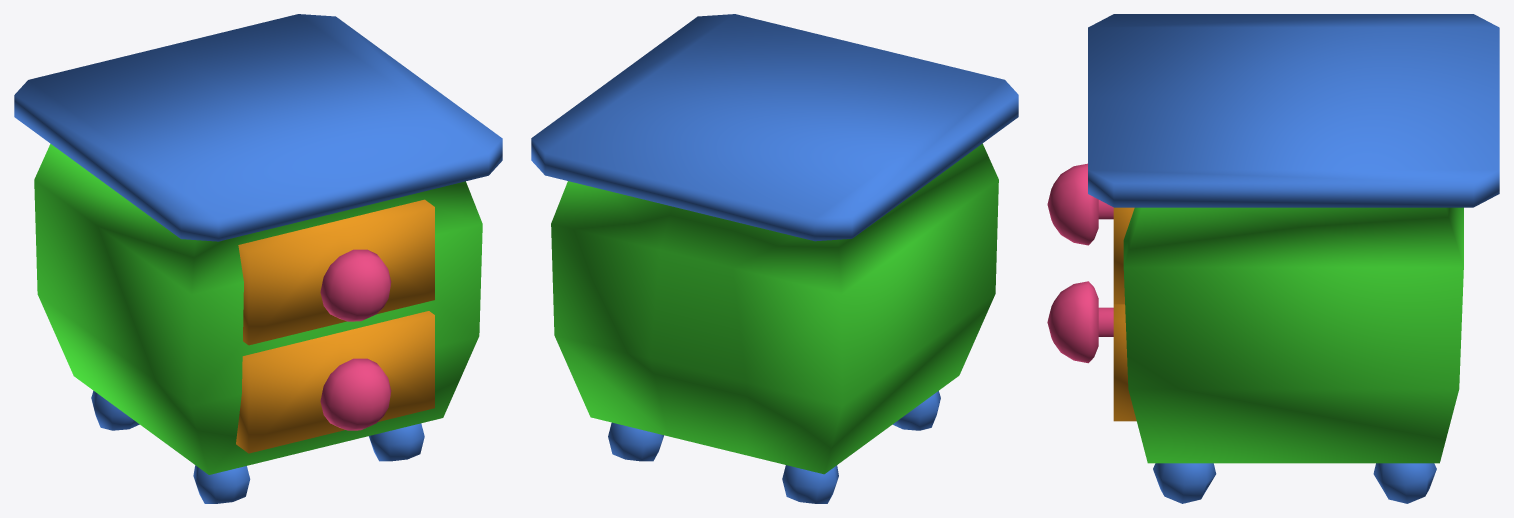
Rendered from mesinha-2.fbx.
The picture shows the model from 3 angles, left to right: view 1: azimuth 30°, elevation 25°; view 2: azimuth 150°, elevation 25°; view 3: azimuth 270°, elevation 25°; orthographic projection. The views are drawn at different scales.
Parts seen in each view (by area): view 1: Mesinha-2; view 2: Mesinha-2; view 3: Mesinha-2.
Boxes of the visible parts, box(x1,y1,x2,y2) form: Mesinha-2: box(14, 14, 502, 503); Mesinha-2: box(531, 14, 1018, 503); Mesinha-2: box(1047, 14, 1499, 503).
Bounding box in the file's own units: 404 × 392 × 456.
